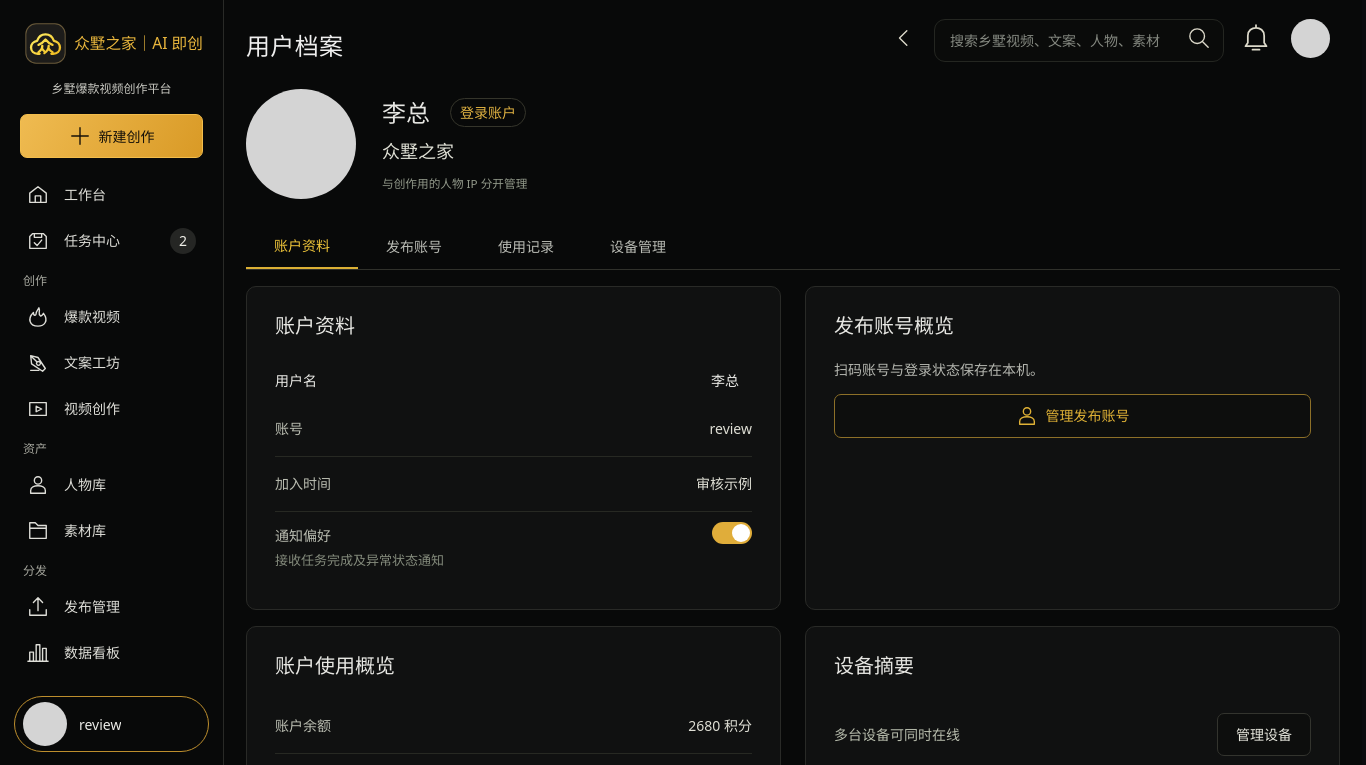
Test: V1.4 workspace integration › publishing accounts stay in account settings, not the publishing editor
Click the tab "发布账号" at (414,246), box [358,224,470,269]
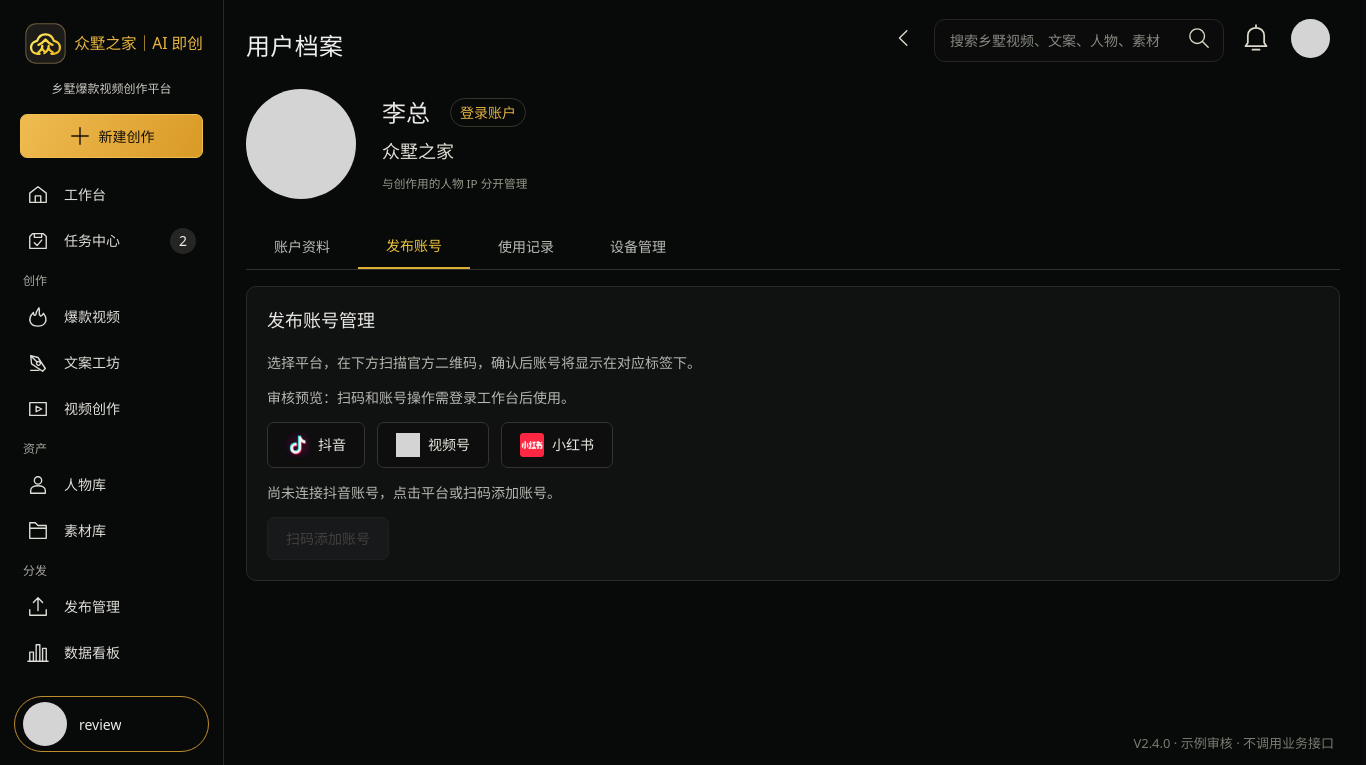
Expected: the heading "用户档案" is shown, [246,29,344,62]
Now the heading "发布账号管理" is shown, box [267,308,375,332]
